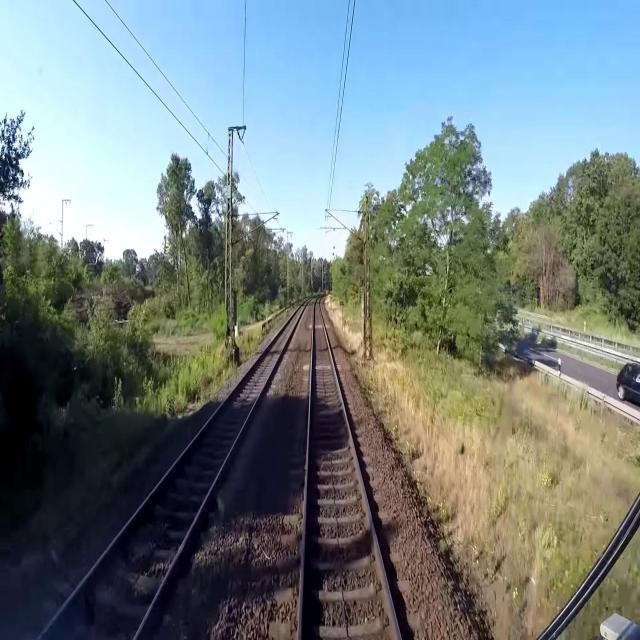rail-track: (40, 305, 304, 639), (301, 298, 399, 639)
